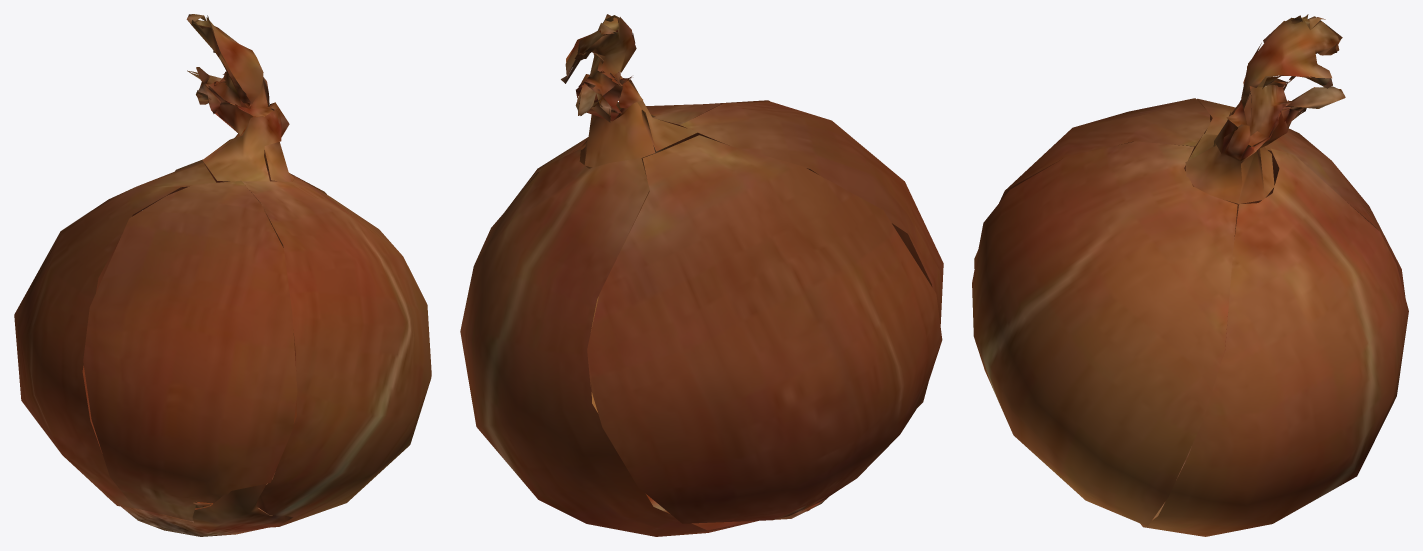
The model's file is yellow_onion.glb.
3 renders of one model, left to right at view 1: azimuth 30°, elevation 25°; view 2: azimuth 150°, elevation 25°; view 3: azimuth 270°, elevation 25°, orthographic. The views are drawn at different scales.
Visible parts, largest first — view 1: yellow_onion; view 2: yellow_onion; view 3: yellow_onion.
Boxes of the visible parts, box(x1,y1,x2,y2) form: yellow_onion: box(14, 14, 431, 536); yellow_onion: box(460, 14, 943, 536); yellow_onion: box(972, 14, 1408, 536).
Size of the model in its own units: 0.0735 by 0.0866 by 0.0692.
Materials: 1 (1 with a texture image).
